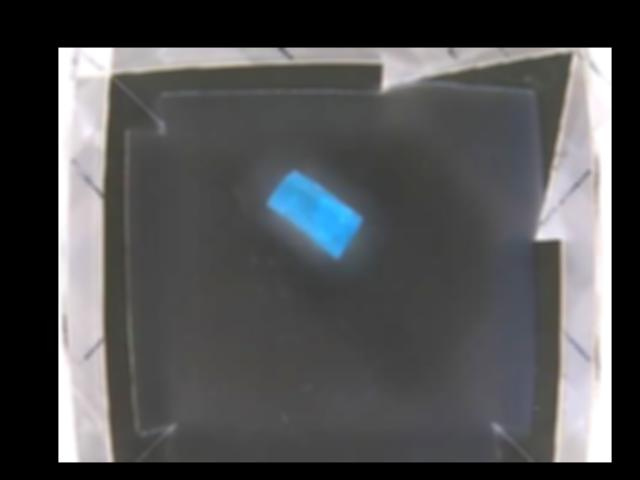Carrot: (264, 166, 362, 258)
